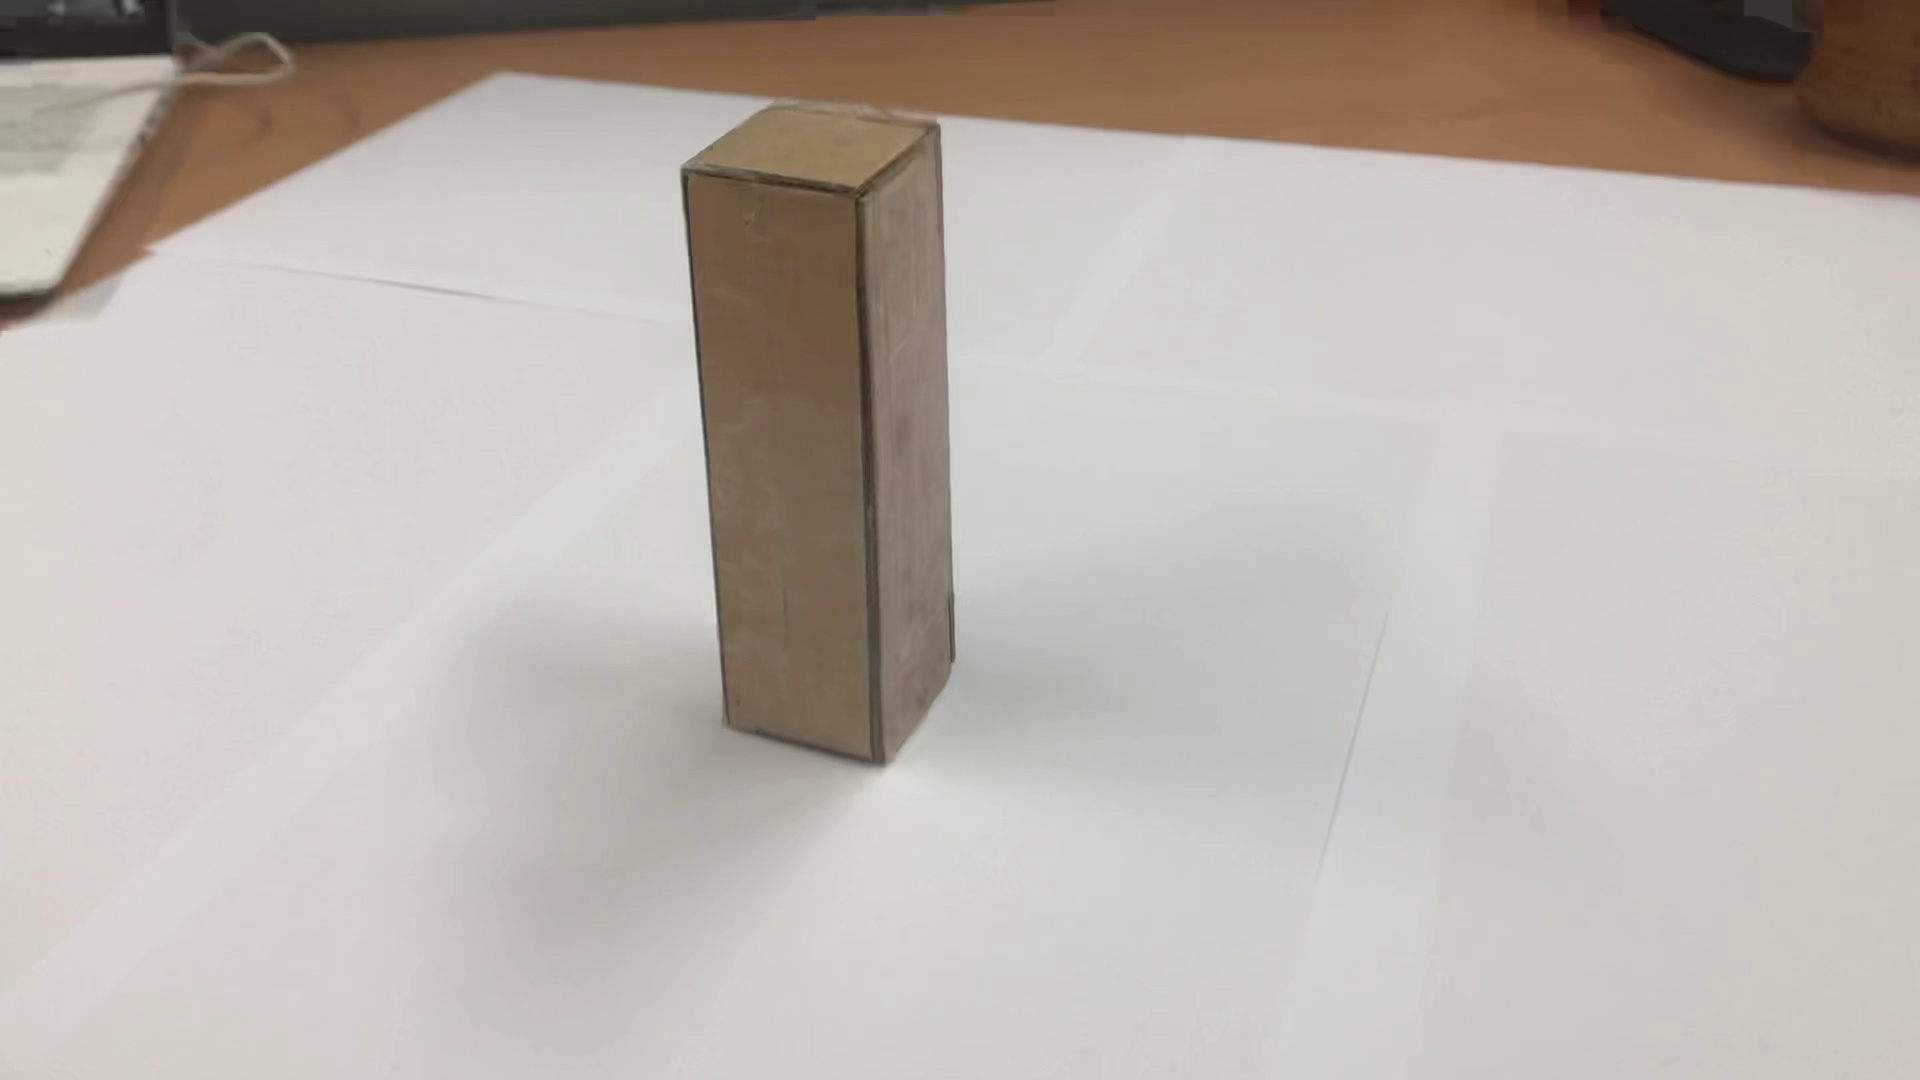box: (618, 84, 1043, 789)
